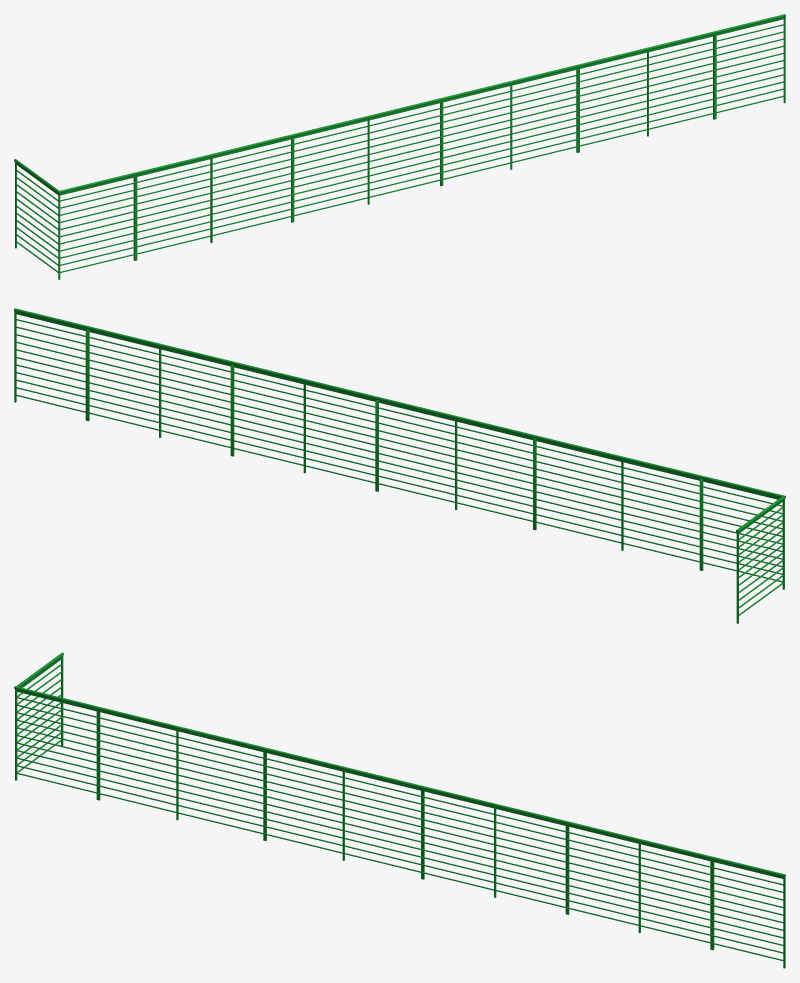
File: Ramp03FenceUpper.fbx
3 views of the same model, one above another, from view 1: azimuth 30°, elevation 25°; view 2: azimuth 150°, elevation 25°; view 3: azimuth 330°, elevation 25° (orthographic). The views are drawn at different scales.
Visible parts, largest first — view 1: Ramp03FenceUpper; view 2: Ramp03FenceUpper; view 3: Ramp03FenceUpper.
Boxes of the visible parts, left/top/right/bottom form: Ramp03FenceUpper: left=14, top=14, right=785, bottom=279; Ramp03FenceUpper: left=14, top=308, right=785, bottom=623; Ramp03FenceUpper: left=14, top=652, right=785, bottom=968.
Size of the model in its own units: 1065 by 124 by 114.
